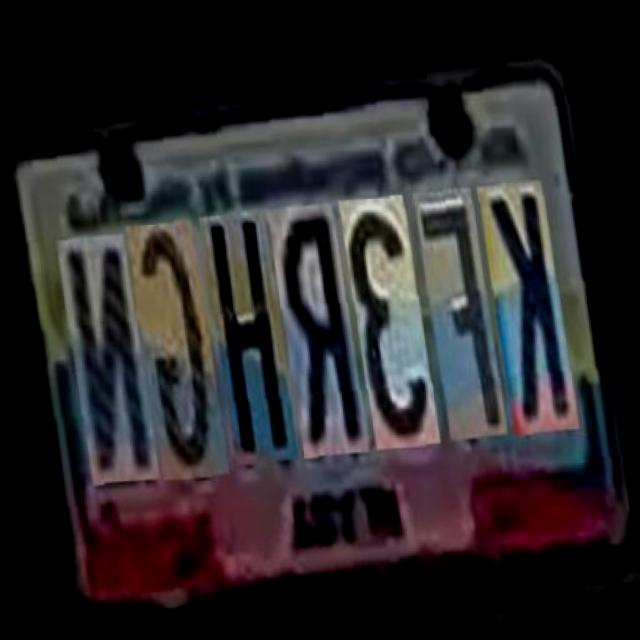3: (337, 185, 429, 439)
f: (411, 181, 497, 433)
g: (123, 200, 217, 459)
h: (196, 193, 286, 447)
k: (476, 177, 568, 430)
n: (51, 209, 146, 459)
r: (263, 190, 357, 443)
